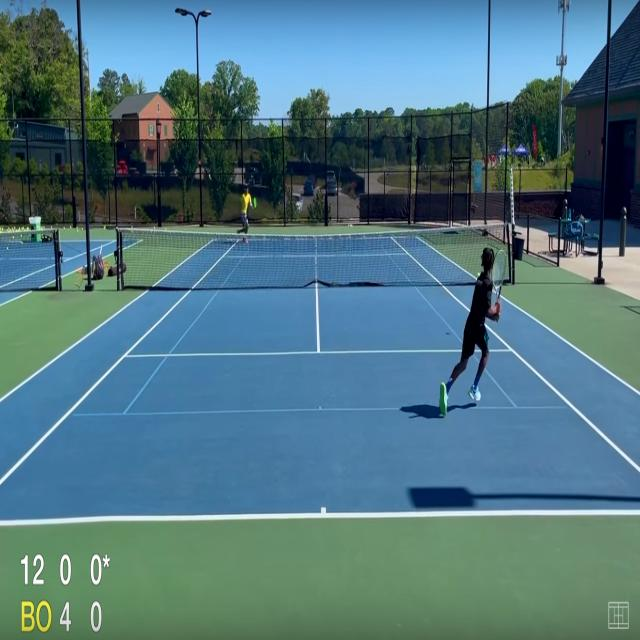ball: (477, 272, 481, 279)
